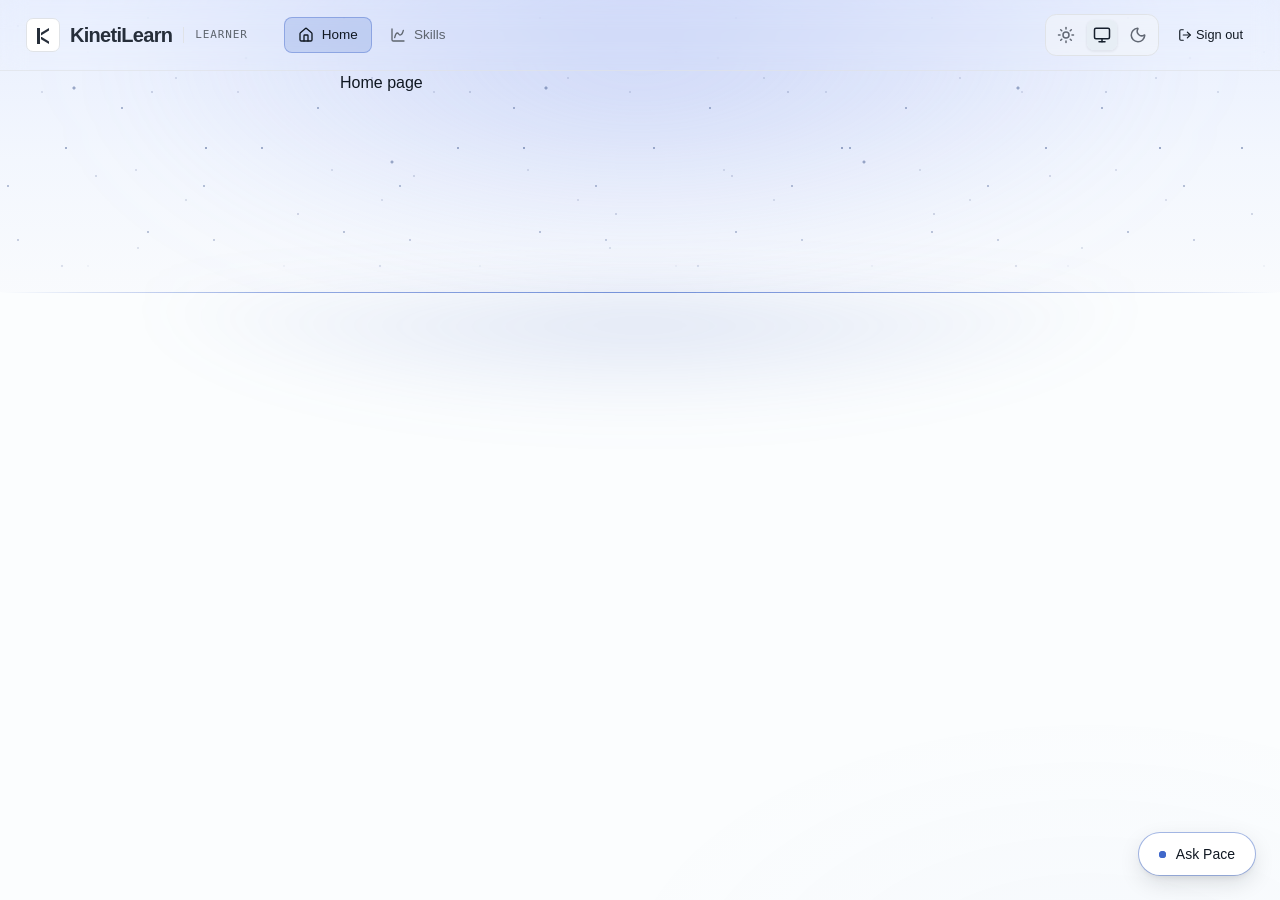
Test: ChatPanel › streams an answer into the panel and shows its sources
Click the button "Ask Pace" at (1197, 854), box [1138,832,1256,876]
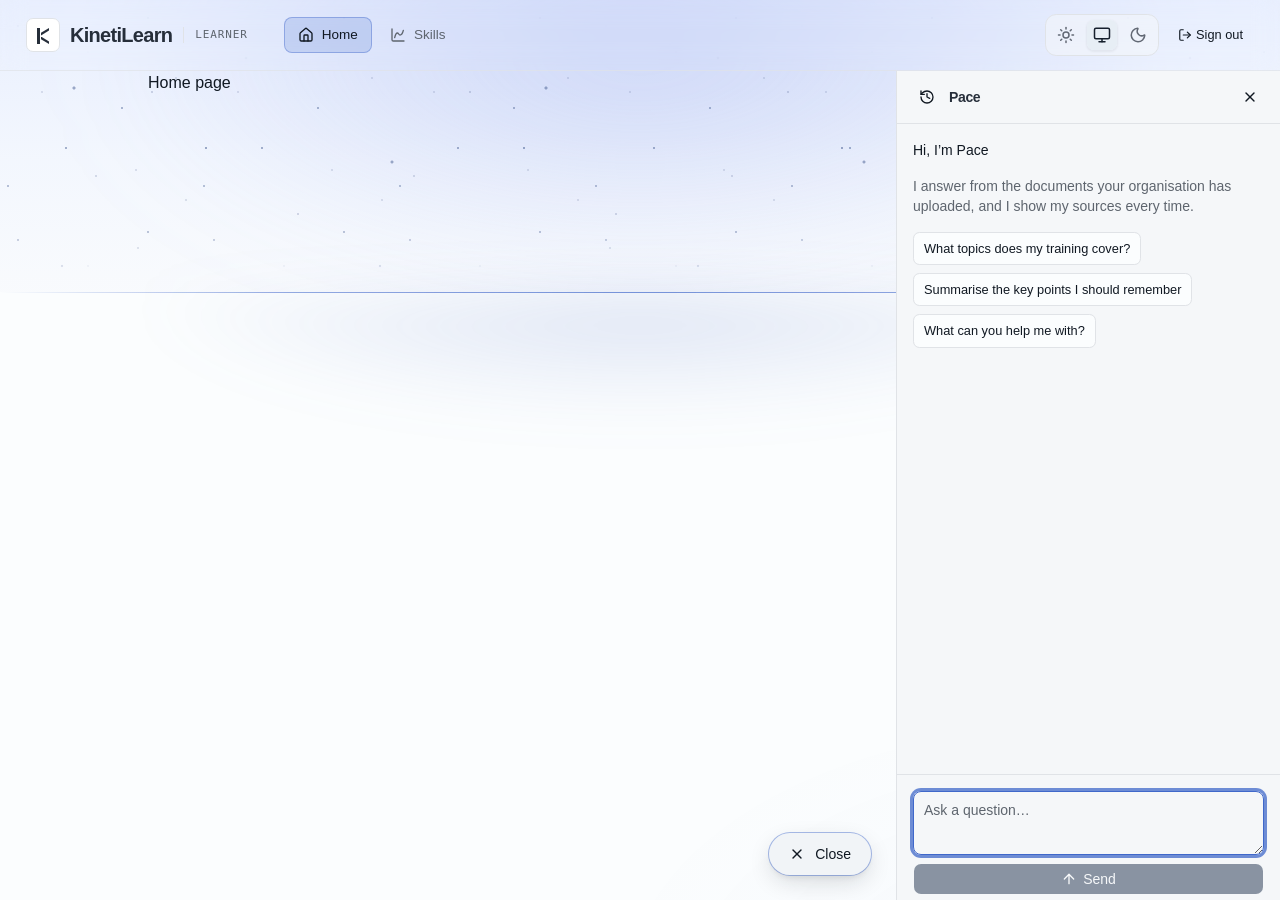
Type "what is the leave policy?" into the text box named "Your question" at (1088, 823), box [913,791,1264,855]
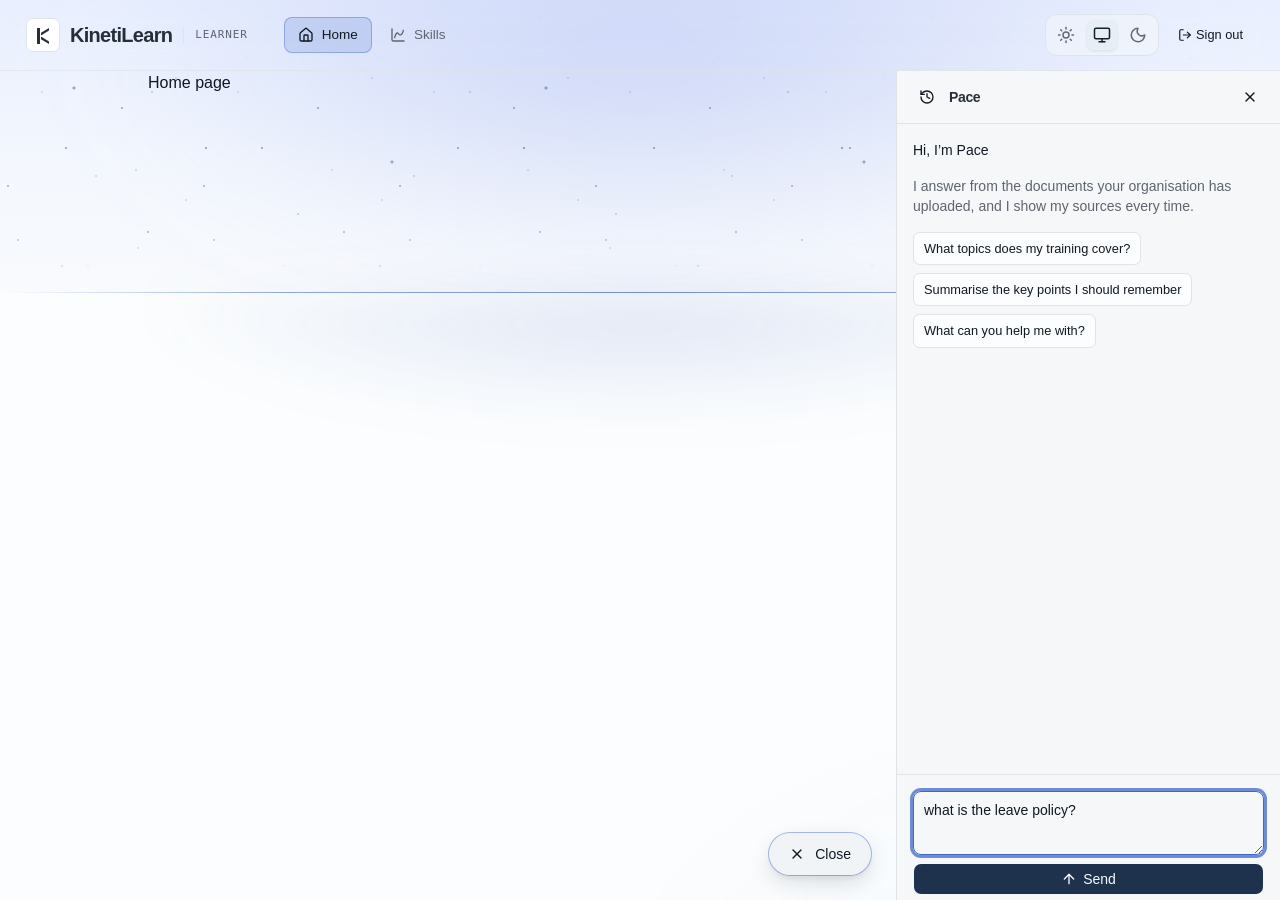
Click the button "Send" at (1088, 879), box [913,863,1264,895]
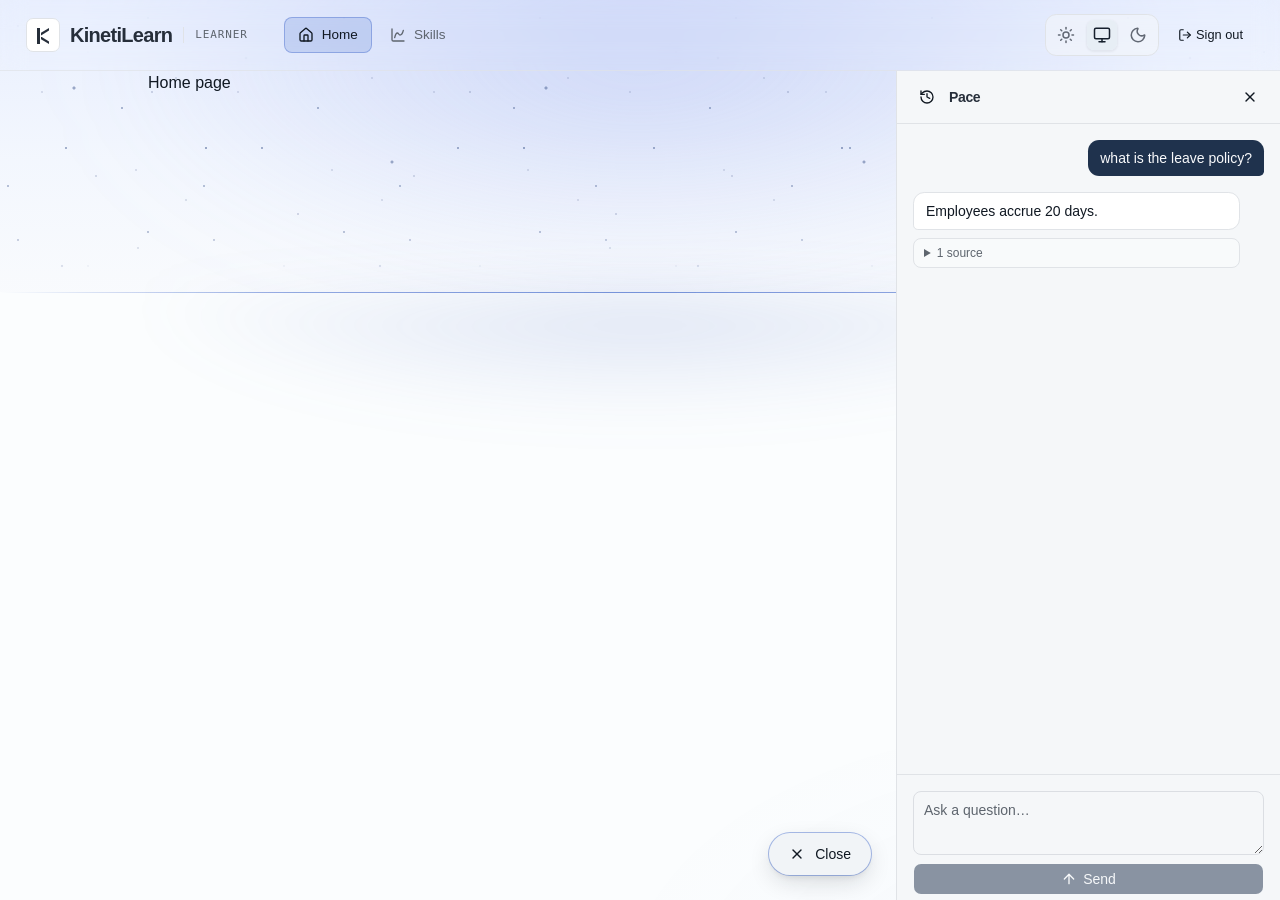
Now the text "Employees accrue 20 days." is shown, box [926,203,1098,219]
Now the heading "1 source" is shown, box [937,246,983,260]
